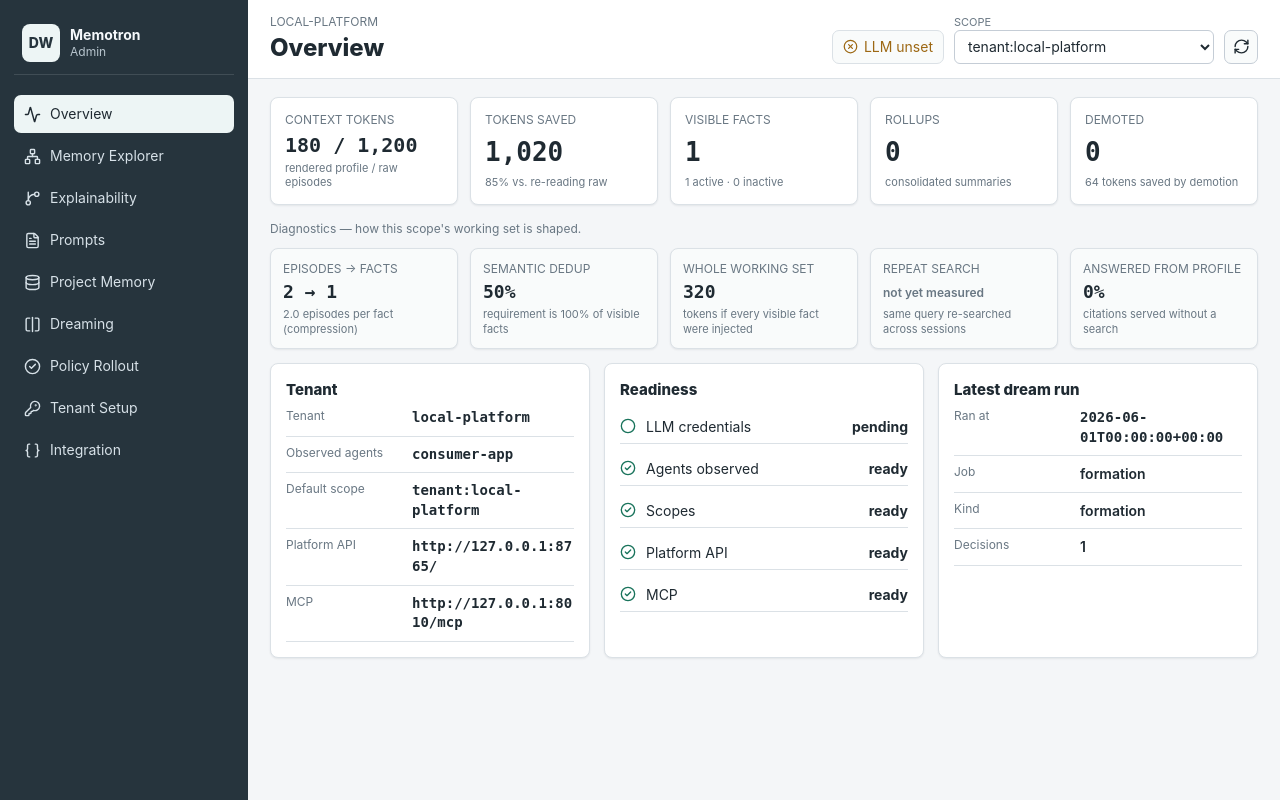
Test: Memotron admin UI › renders compiled policy, certification evidence, and shadow divergence
Step 1. Click the button "Policy Rollout" → click(124, 366), box left=14, top=347, right=234, bottom=385
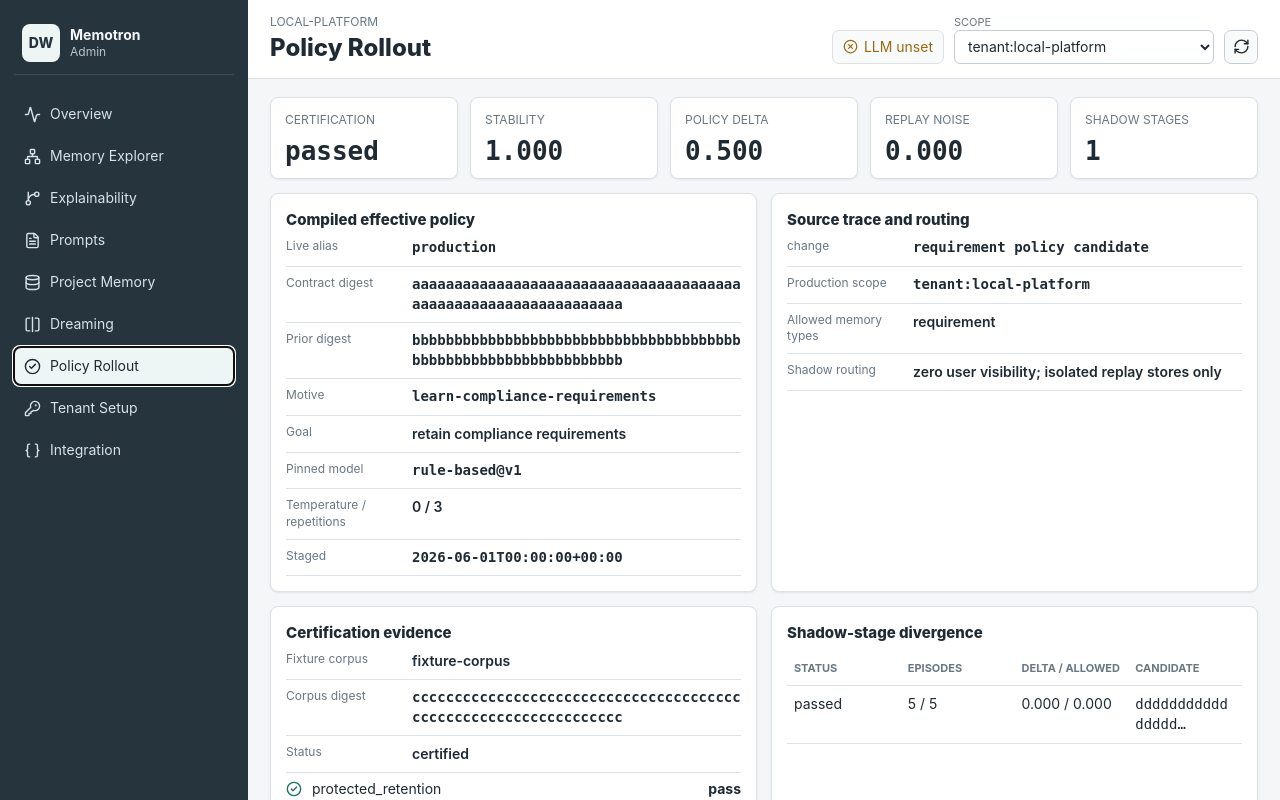
Now the heading "Compiled effective policy" is shown, box left=286, top=210, right=475, bottom=229
Now the text "learn-compliance-requirements" is shown, box left=412, top=388, right=656, bottom=404
Now the text "fixture-corpus" is shown, box left=412, top=652, right=510, bottom=669
